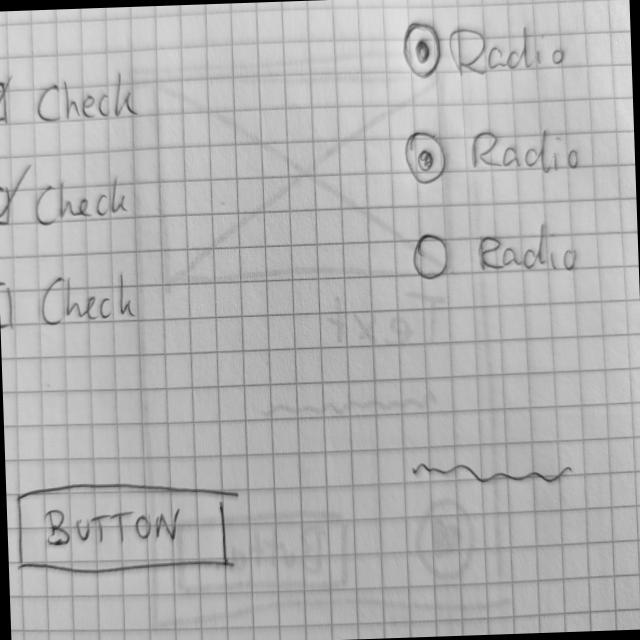button: (13, 474, 233, 580)
checkbox: (0, 156, 133, 230), (0, 63, 146, 130), (0, 271, 137, 335)
radio: (402, 120, 584, 187), (400, 12, 570, 81), (408, 218, 580, 282)
text: (408, 449, 575, 492)
